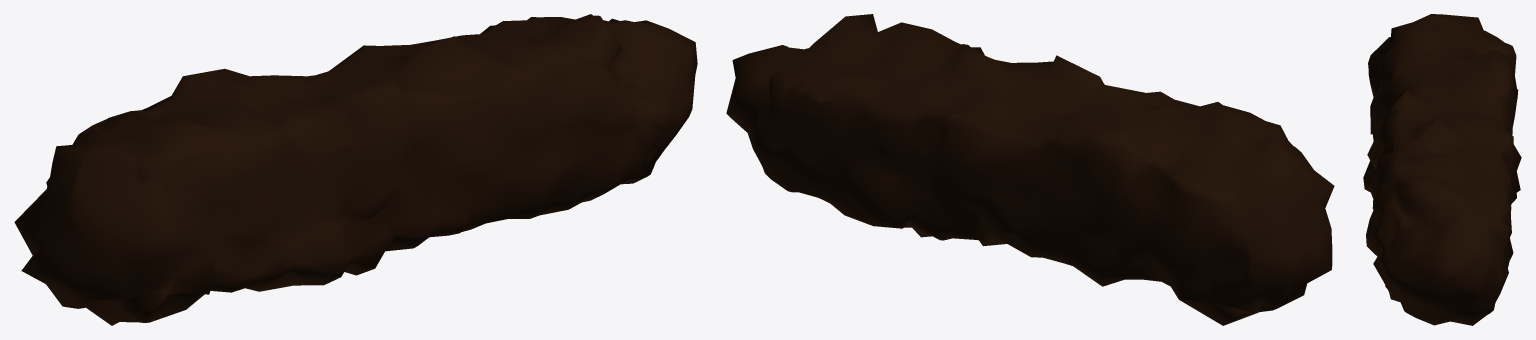
Rendered from SM_Barnacle_Rock_02.obj.
3 views of the same model, side by side, from view 1: azimuth 30°, elevation 25°; view 2: azimuth 150°, elevation 25°; view 3: azimuth 270°, elevation 25° (orthographic). The views are drawn at different scales.
Parts seen in each view (by area): view 1: SM_Barnacle_Rock_02_LOD0; view 2: SM_Barnacle_Rock_02_LOD0; view 3: SM_Barnacle_Rock_02_LOD0.
Boxes of the visible parts, box(x1,y1,x2,y2) form: SM_Barnacle_Rock_02_LOD0: box(14, 14, 697, 325); SM_Barnacle_Rock_02_LOD0: box(726, 14, 1334, 325); SM_Barnacle_Rock_02_LOD0: box(1363, 14, 1521, 325).
Size of what is drawn, in the model's own units: 186 by 56.16 by 50.71.
